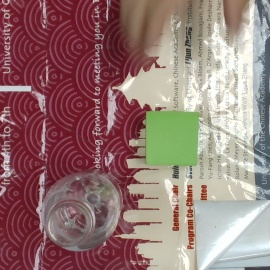bottle: (41, 174, 121, 247)
